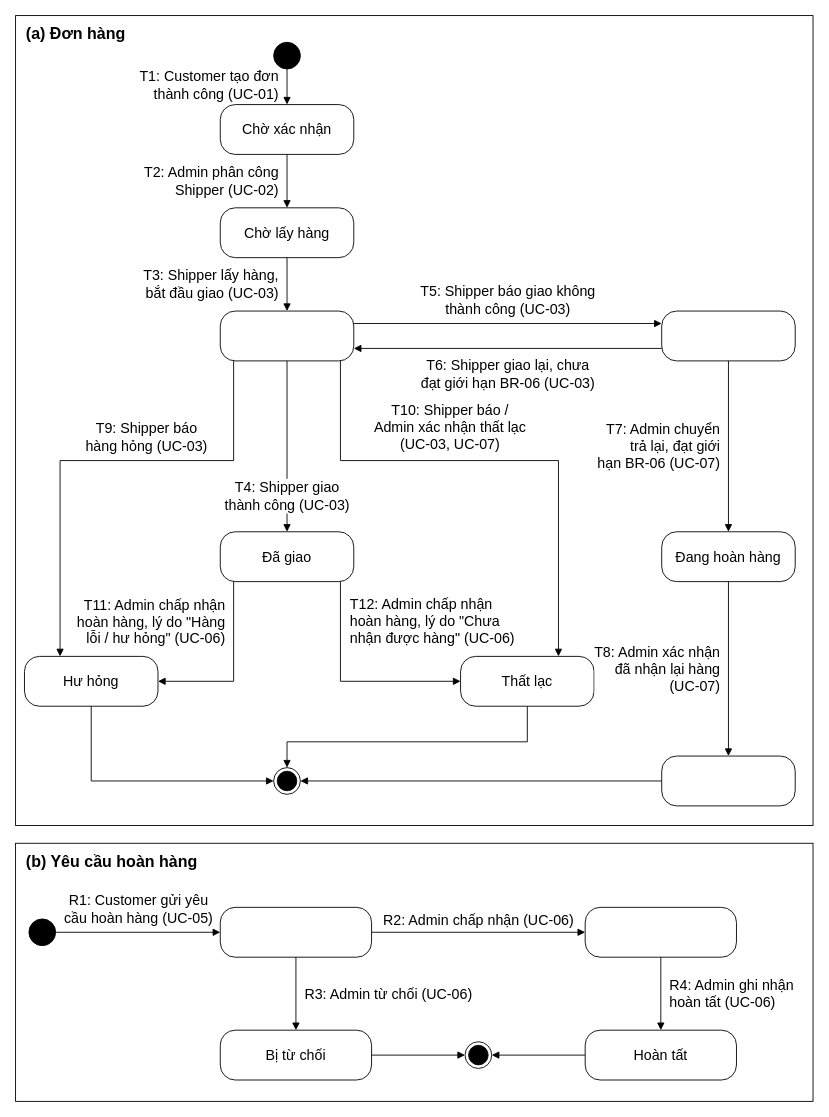
This 829x1117 diagram has some shape labels left out. The shapes that lost their labels are listed below. From the top down, each one's centre as x and y in pixels, then its label:
At (x=286, y=335): "Đang giao".
At (x=728, y=335): "Giao không thành công".
At (x=728, y=780): "Đã hoàn về người bán".
At (x=295, y=931): "Chờ duyệt".
At (x=660, y=931): "Đã chấp nhận".
